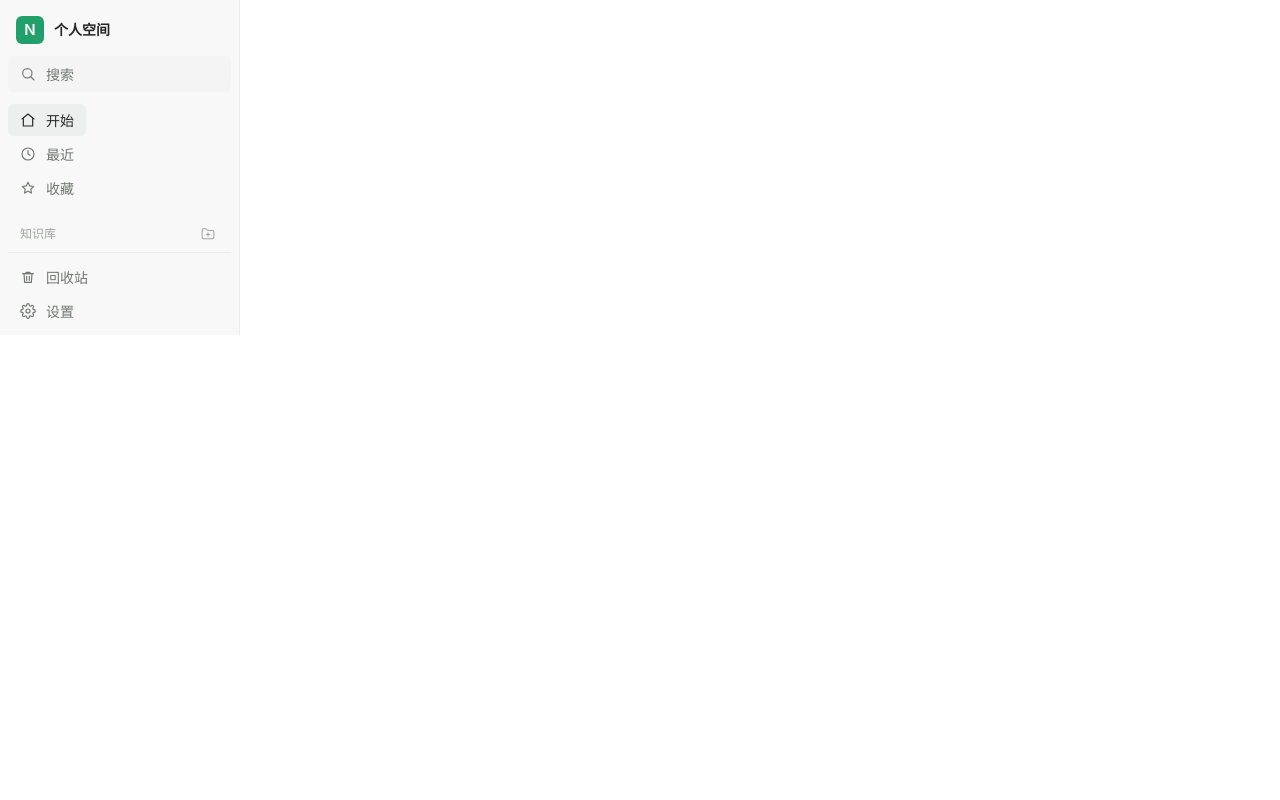
Scenario: GlobalSidebar（Desktop 能力，R006 阶段 2 / C2.1） › 未初始化目录：弹三选项确认框（FR-03）；「初始化并打开」走 openSelection
Step 1. Click the button named "打开本地知识库" → (208, 234), box [197, 223, 219, 245]
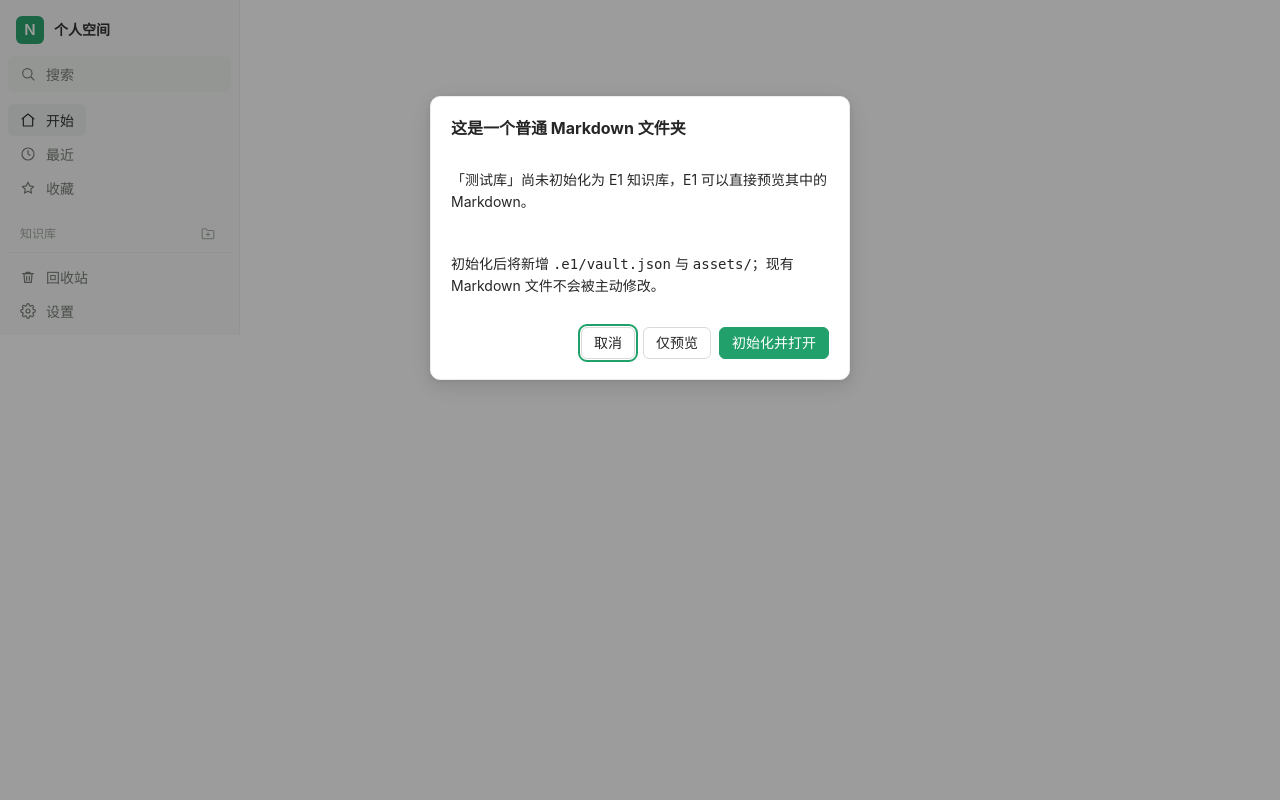
Expected: the dialog named "打开本地文件夹" is shown, [430, 96, 850, 380]
Expected: the heading "这是一个普通 Markdown 文件夹" is shown, [451, 118, 686, 138]
Expected: the button "仅预览" is shown, [643, 327, 711, 359]
Step 2. Click the button "初始化并打开" → (774, 343), box [719, 327, 829, 359]
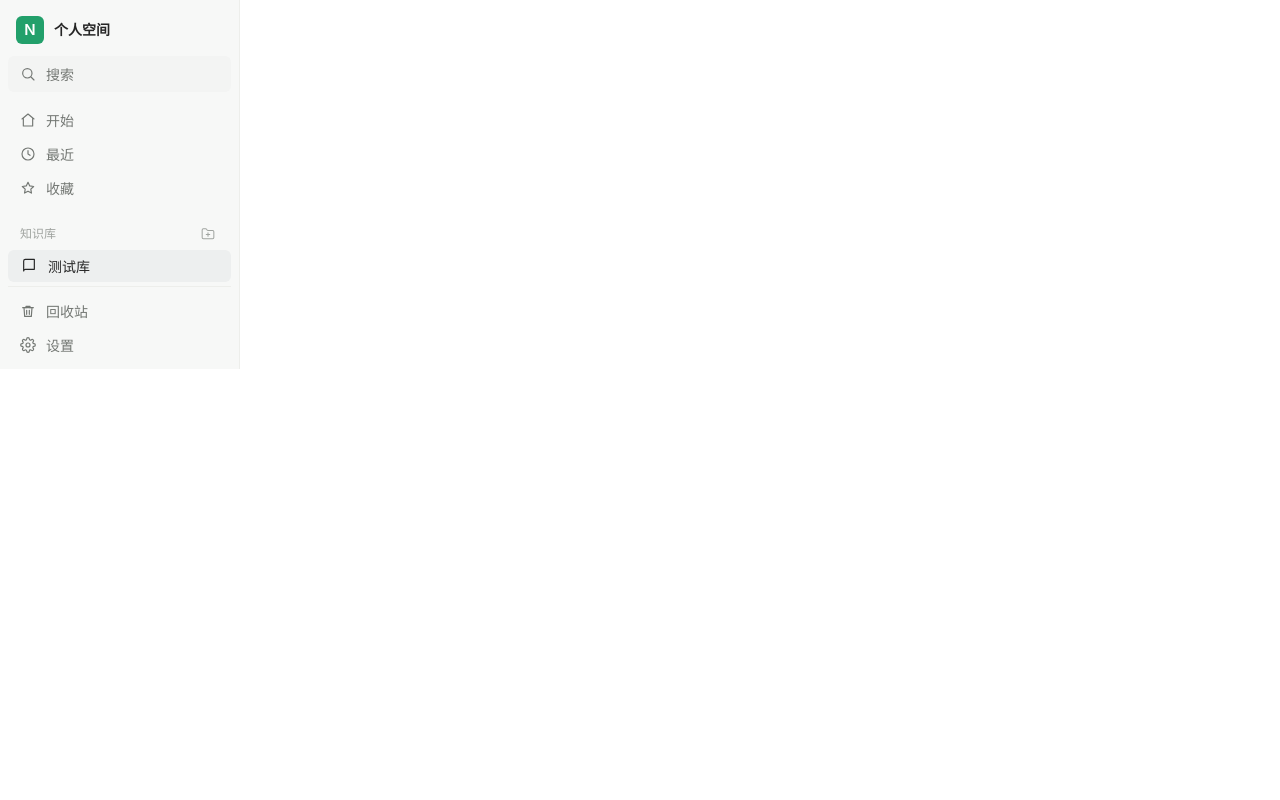
Expected: the button with aria-label "知识库「测试库」" is shown, [8, 250, 231, 282]
Expected: the dialog "打开本地文件夹" is gone
